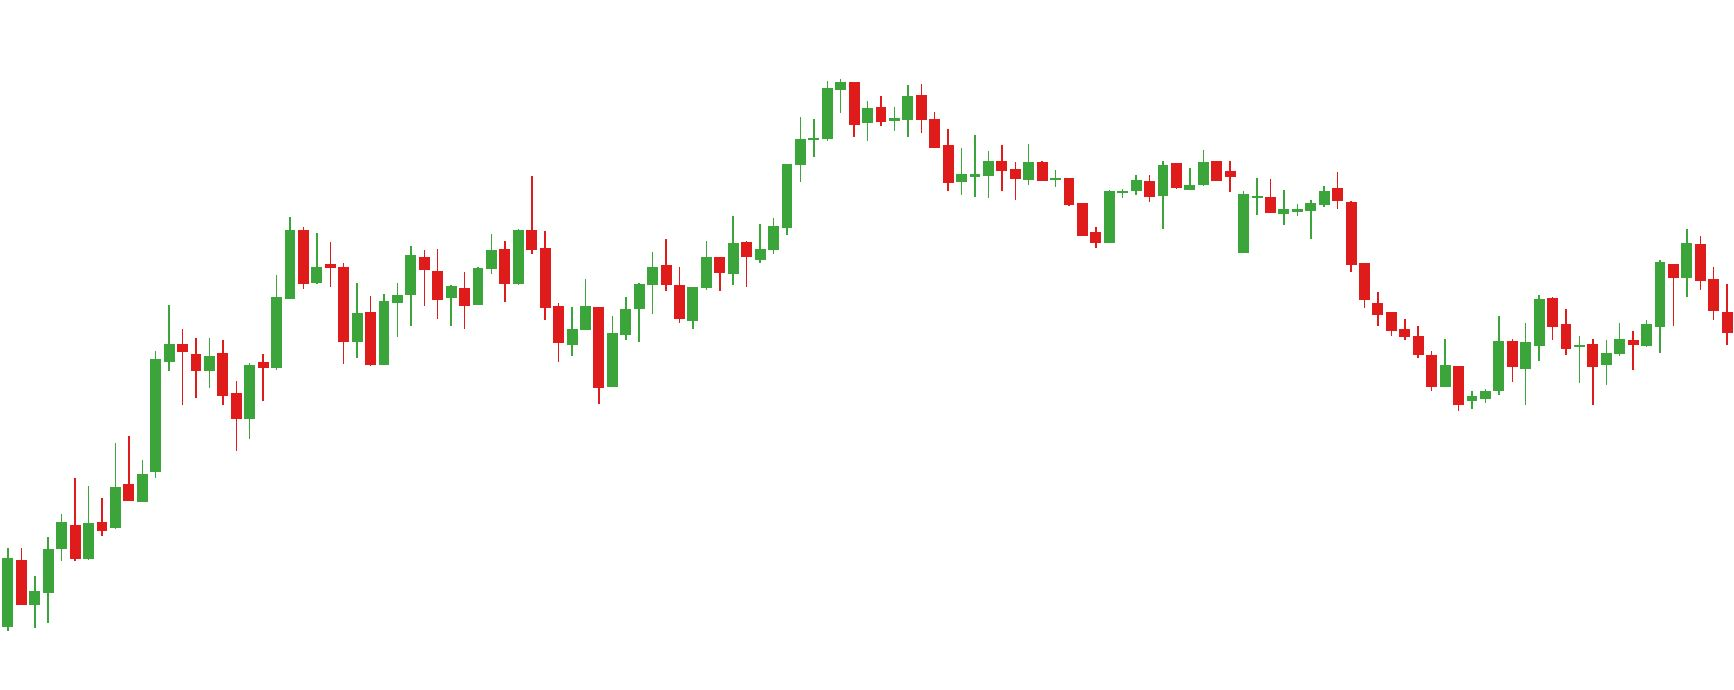buy: (176, 347, 257, 449)
